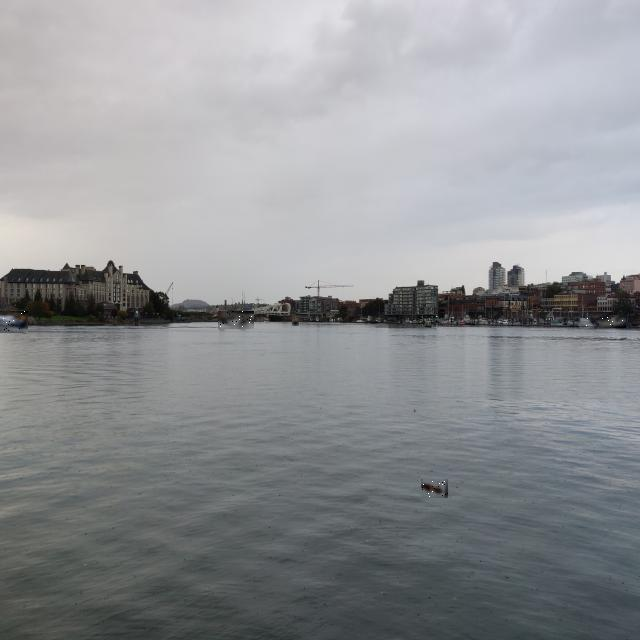aircraft: (218, 311, 254, 329), (0, 311, 28, 333)
boat: (599, 315, 626, 328), (578, 318, 594, 326), (424, 320, 432, 328), (292, 318, 299, 326)
debris: (422, 480, 449, 500)
mark: (134, 310, 140, 326)
